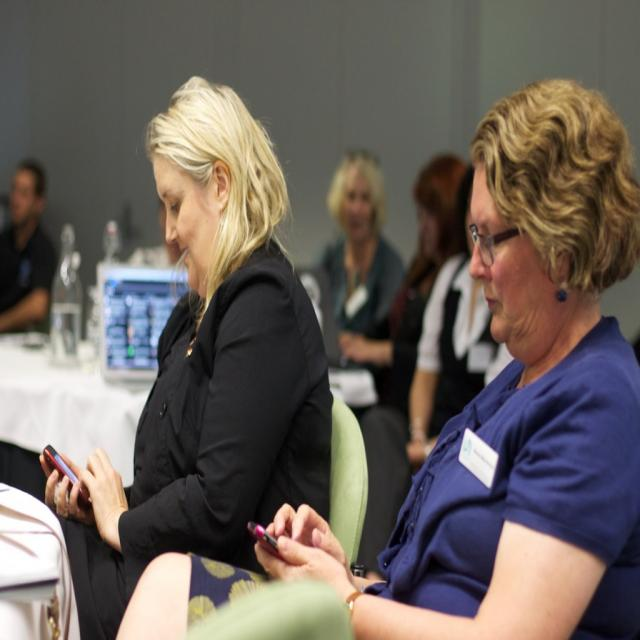chair: (329, 392, 369, 570)
desk: (0, 333, 369, 484)
laptop: (299, 269, 374, 378)
person: (295, 98, 626, 615), (36, 78, 337, 630), (342, 153, 469, 418), (404, 159, 495, 468), (304, 150, 406, 370), (0, 156, 56, 332)
